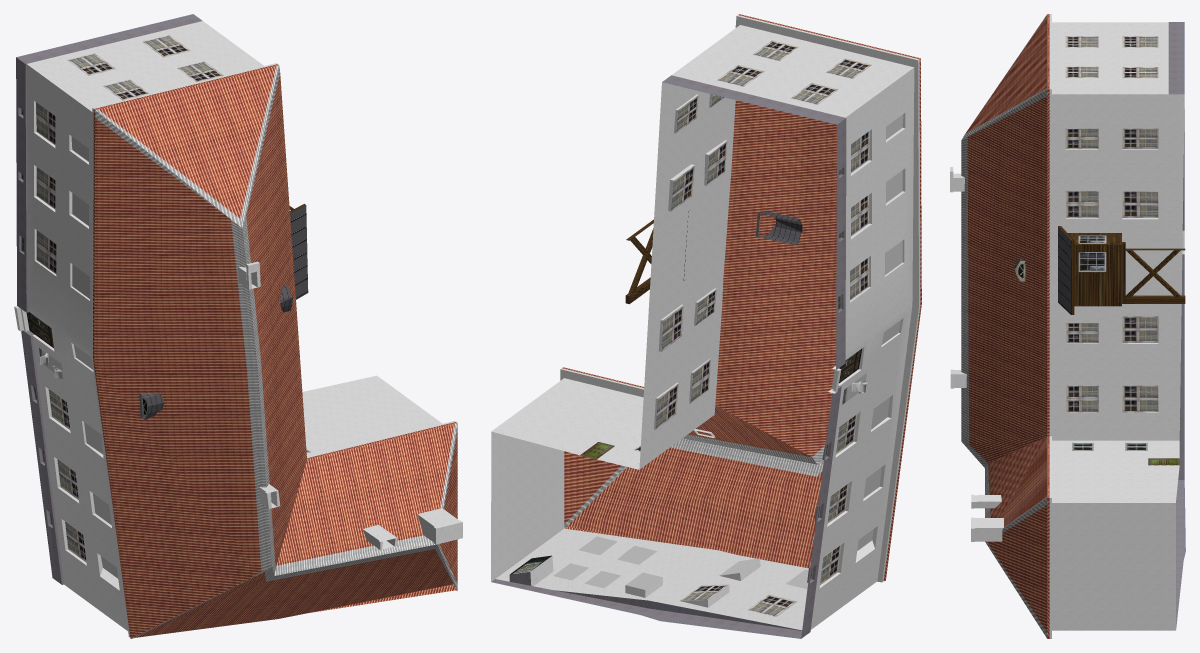
File: Toom-Kooli_4-origo.obj
The picture shows the model from 3 angles, left to right: view 1: azimuth 30°, elevation 25°; view 2: azimuth 150°, elevation 25°; view 3: azimuth 270°, elevation 25°; orthographic projection. The views are drawn at different scales.
Visible parts, largest first — view 1: Toom_Kooli_4; view 2: Toom_Kooli_4; view 3: Toom_Kooli_4.
Boxes of the visible parts, <box> form: Toom_Kooli_4: <box>14,14,462,638</box>; Toom_Kooli_4: <box>491,14,921,638</box>; Toom_Kooli_4: <box>950,14,1185,638</box>.
Size of the model in its own units: 23.69 by 35.5 by 15.9.
